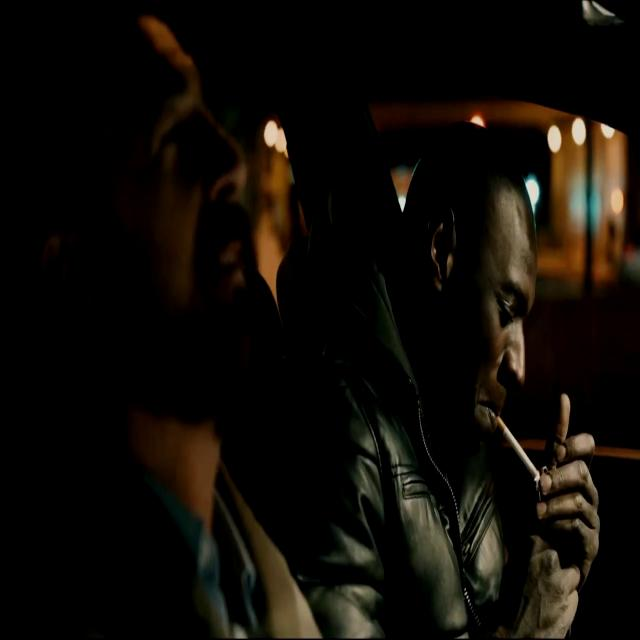Smooking: (496, 400, 540, 483)
